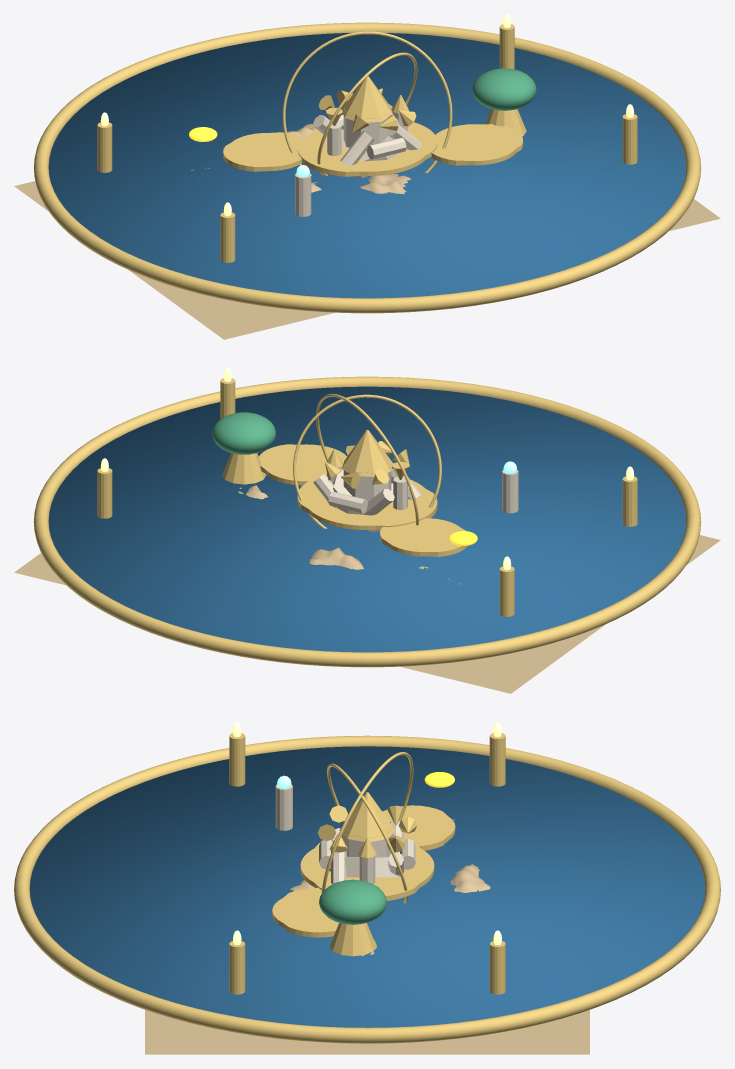
File: kingdom_chronicles.glb
The picture shows the model from 3 angles, top to bottom: view 1: azimuth 30°, elevation 25°; view 2: azimuth 150°, elevation 25°; view 3: azimuth 270°, elevation 25°; orthographic projection. The views are drawn at different scales.
Visible parts, largest first — view 1: Astrolabe_Sea_Disc, WarTable_Brass_Rim, Kingdom_Relief_Continent, Clockwork_Gear_Main, Clockwork_Gear_SE, Clockwork_Gear_NW, Heartwood_Canopy, Citadel_Sun_Spire, Clockwork_Astrolabe_Arch_1, Corner_Candelabra_0, Corner_Candelabra_2, Clockwork_Astrolabe_Arch_0 (+7 smaller); view 2: Astrolabe_Sea_Disc, WarTable_Brass_Rim, Kingdom_Relief_Continent, Clockwork_Gear_Main, Clockwork_Gear_NW, Clockwork_Gear_SE, Heartwood_Canopy, Citadel_Sun_Spire, Clockwork_Astrolabe_Arch_0, Heartwood_Trunk, Clockwork_Astrolabe_Arch_1, Corner_Candelabra_0 (+6 smaller); view 3: Astrolabe_Sea_Disc, WarTable_Brass_Rim, Kingdom_Relief_Continent, Heartwood_Canopy, Clockwork_Gear_Main, Clockwork_Gear_SE, Clockwork_Gear_NW, Citadel_Sun_Spire, Heartwood_Trunk, Clockwork_Astrolabe_Arch_1, Corner_Candelabra_2, Corner_Candelabra_0 (+6 smaller).
Part boxes in pixels (bbox=[...]): Astrolabe_Sea_Disc: bbox=[48, 33, 686, 298]; WarTable_Brass_Rim: bbox=[33, 22, 701, 313]; Kingdom_Relief_Continent: bbox=[14, 124, 720, 339]; Clockwork_Gear_Main: bbox=[297, 122, 437, 176]; Clockwork_Gear_SE: bbox=[431, 124, 523, 165]; Clockwork_Gear_NW: bbox=[223, 132, 303, 171]; Heartwood_Canopy: bbox=[472, 68, 536, 110]; Citadel_Sun_Spire: bbox=[342, 76, 392, 122]; Clockwork_Astrolabe_Arch_1: bbox=[282, 31, 452, 175]; Corner_Candelabra_0: bbox=[97, 122, 112, 172]; Corner_Candelabra_2: bbox=[220, 212, 235, 262]; Clockwork_Astrolabe_Arch_0: bbox=[317, 52, 417, 176]; Astrolabe_Sea_Disc: bbox=[48, 386, 686, 652]; WarTable_Brass_Rim: bbox=[33, 376, 701, 667]; Kingdom_Relief_Continent: bbox=[14, 485, 720, 693]; Clockwork_Gear_Main: bbox=[297, 474, 437, 530]; Clockwork_Gear_NW: bbox=[380, 518, 467, 556]; Clockwork_Gear_SE: bbox=[259, 444, 346, 485]; Heartwood_Canopy: bbox=[212, 412, 276, 454]; Citadel_Sun_Spire: bbox=[342, 430, 392, 476]; Clockwork_Astrolabe_Arch_0: bbox=[293, 394, 441, 528]; Heartwood_Trunk: bbox=[222, 453, 266, 484]; Clockwork_Astrolabe_Arch_1: bbox=[316, 394, 418, 525]; Corner_Candelabra_0: bbox=[499, 566, 514, 616]; Astrolabe_Sea_Disc: bbox=[29, 746, 705, 1027]; WarTable_Brass_Rim: bbox=[14, 735, 720, 1043]; Kingdom_Relief_Continent: bbox=[145, 819, 589, 1054]; Heartwood_Canopy: bbox=[319, 879, 386, 924]; Clockwork_Gear_Main: bbox=[300, 838, 434, 900]; Clockwork_Gear_SE: bbox=[272, 887, 338, 937]; Clockwork_Gear_NW: bbox=[382, 805, 455, 850]; Citadel_Sun_Spire: bbox=[339, 792, 395, 841]; Heartwood_Trunk: bbox=[329, 923, 376, 956]; Clockwork_Astrolabe_Arch_1: bbox=[321, 752, 413, 893]; Corner_Candelabra_2: bbox=[229, 733, 245, 786]; Corner_Candelabra_0: bbox=[489, 733, 505, 786].
Bounding box in the file's own units: 19.54 × 5.22 × 19.54.
